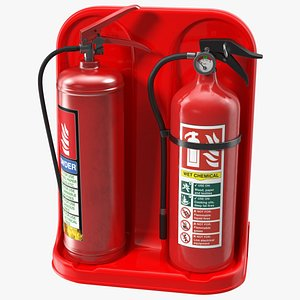fire_extinguisher: (38, 4, 263, 295), (38, 5, 152, 266), (147, 37, 262, 275)
